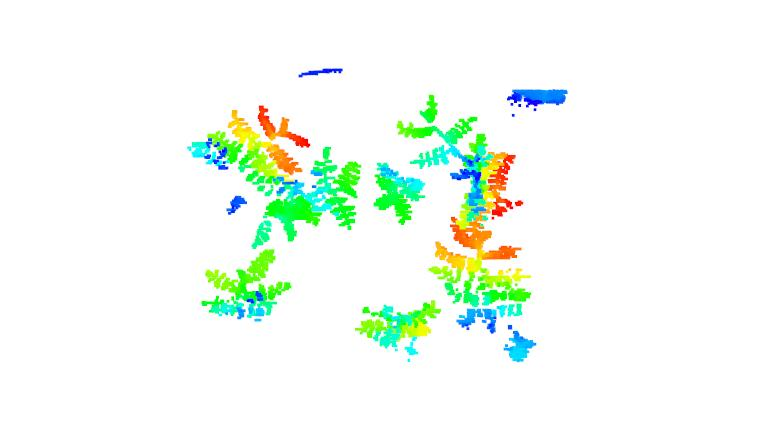chickpea: (429, 213, 538, 359), (396, 91, 511, 228), (187, 100, 311, 203), (248, 151, 360, 242), (192, 250, 296, 323), (351, 300, 446, 362), (372, 160, 432, 233)
